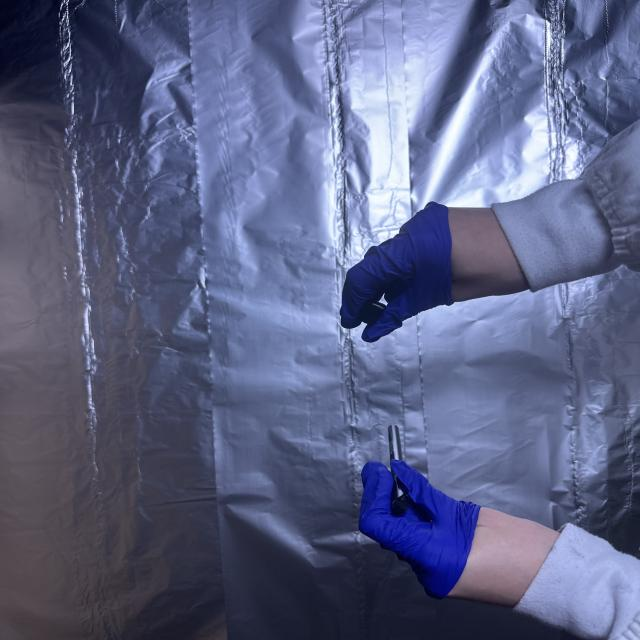glove_partial: (356, 462, 566, 609), (337, 198, 536, 347)
